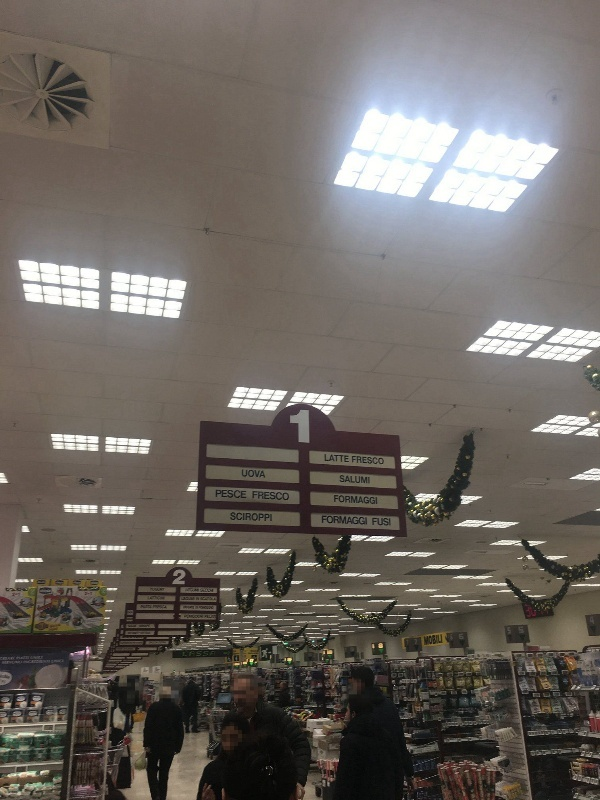text: (291, 408, 304, 447), (305, 408, 310, 447), (225, 489, 240, 499), (241, 512, 256, 522), (257, 512, 272, 522), (257, 491, 272, 501), (273, 491, 288, 501), (337, 495, 352, 505), (353, 495, 368, 505), (337, 516, 352, 526), (353, 516, 368, 526), (177, 569, 186, 585), (322, 516, 336, 526), (433, 634, 443, 648), (353, 456, 368, 465), (369, 456, 384, 465), (353, 475, 368, 484), (242, 470, 256, 478), (424, 634, 432, 648), (450, 633, 464, 641), (340, 475, 352, 484), (193, 651, 208, 658), (337, 454, 349, 462), (231, 512, 240, 522), (17, 660, 32, 666), (33, 660, 48, 666), (49, 660, 64, 666), (518, 626, 528, 635), (325, 454, 336, 462), (373, 518, 384, 526), (2, 660, 16, 666), (216, 489, 224, 499), (369, 495, 377, 505), (1, 656, 16, 661), (17, 656, 32, 661), (257, 470, 266, 478), (103, 587, 112, 595), (406, 639, 416, 646), (193, 614, 204, 620), (183, 651, 192, 658), (148, 596, 160, 601), (196, 605, 208, 610), (241, 489, 247, 499), (33, 656, 43, 661), (209, 651, 216, 658), (196, 597, 208, 601), (385, 518, 391, 526), (378, 643, 384, 651), (458, 633, 464, 641), (151, 587, 160, 592), (129, 632, 144, 635), (129, 642, 144, 645), (181, 597, 192, 601), (185, 614, 192, 620), (150, 641, 160, 645), (209, 614, 217, 619), (183, 606, 192, 610), (153, 605, 160, 610), (201, 588, 208, 593), (174, 569, 176, 585), (209, 597, 217, 601), (200, 606, 208, 610), (508, 627, 512, 635), (161, 605, 167, 610), (253, 491, 256, 501), (145, 605, 152, 609), (201, 597, 208, 601), (161, 596, 166, 601), (209, 588, 214, 593), (129, 625, 137, 628), (161, 641, 167, 645), (186, 588, 192, 592), (193, 588, 199, 592), (121, 642, 128, 645), (161, 587, 165, 592), (209, 606, 214, 610), (334, 495, 336, 505), (590, 616, 592, 626), (593, 616, 595, 626), (145, 625, 151, 628), (145, 632, 151, 635), (205, 614, 208, 619), (414, 639, 416, 646), (141, 605, 144, 609), (129, 612, 133, 615), (129, 618, 133, 621), (140, 625, 144, 628), (289, 491, 290, 501), (369, 475, 370, 484), (193, 597, 195, 601), (193, 606, 195, 610), (417, 639, 418, 646), (351, 647, 352, 653), (353, 647, 354, 653), (127, 618, 128, 621)
